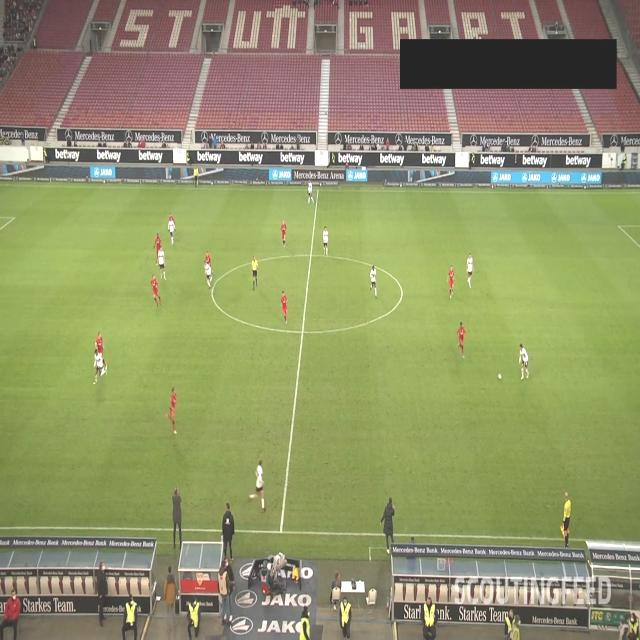ball: (493, 372, 505, 387)
f_player: (252, 455, 270, 509), (167, 381, 181, 434), (94, 328, 108, 366), (92, 349, 106, 384), (518, 344, 530, 380), (152, 274, 164, 308), (154, 235, 166, 269), (457, 322, 468, 358), (278, 290, 288, 326), (466, 255, 476, 291), (204, 254, 214, 288), (306, 172, 316, 206), (447, 266, 457, 298), (167, 216, 177, 246), (370, 264, 378, 294), (321, 228, 329, 255), (279, 222, 287, 248)
umpire: (562, 492, 574, 546), (249, 257, 258, 291), (192, 166, 201, 188)
